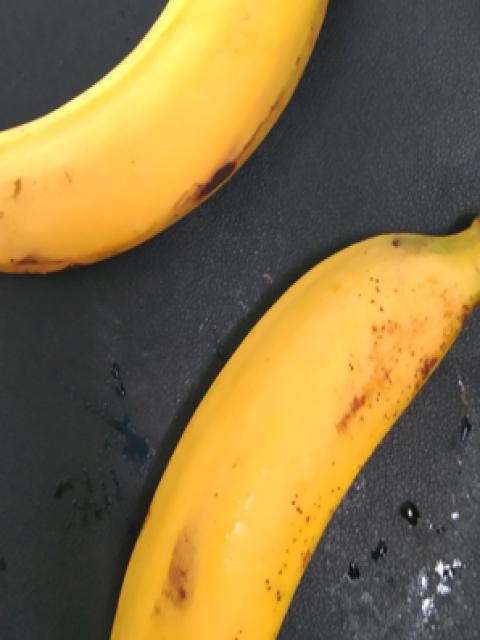freshripe: (0, 2, 381, 296)
ripe: (95, 213, 479, 636)
